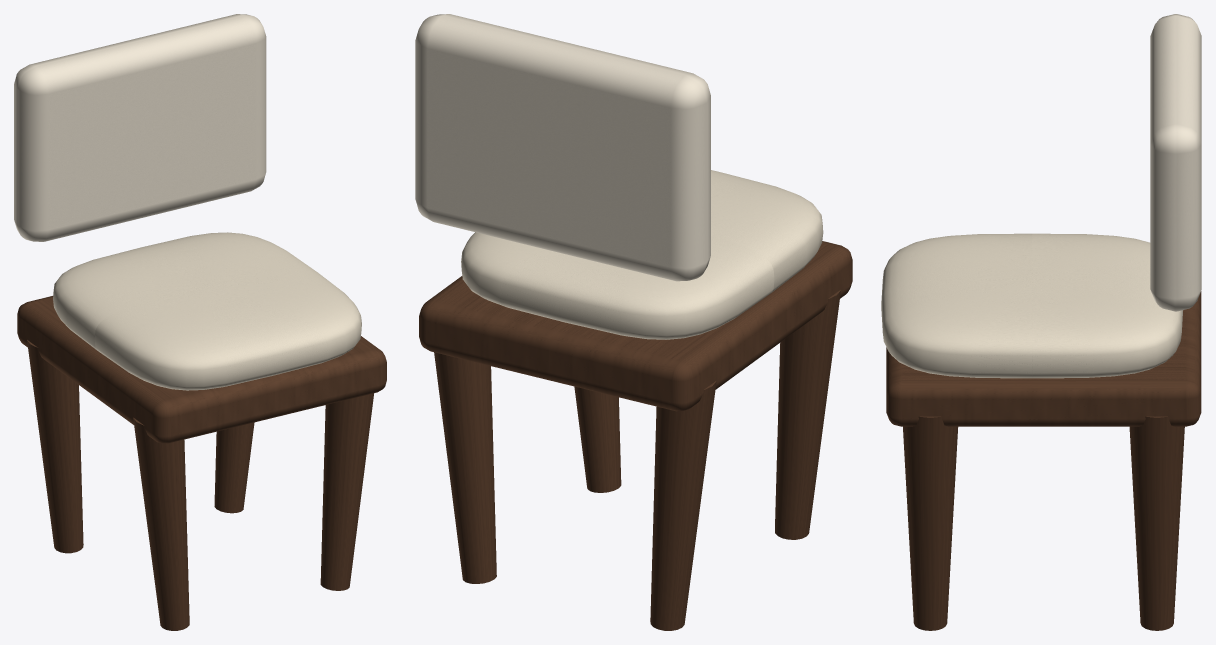
File: dining-chair.glb
3 renders of one model, left to right at view 1: azimuth 30°, elevation 25°; view 2: azimuth 150°, elevation 25°; view 3: azimuth 270°, elevation 25°, orthographic. The views are drawn at different scales.
Visible parts, largest first — view 1: 奶油圈圈绒, 浅胡桃木 (×5), 软包织物 / 鼓包枕芯; view 2: 奶油圈圈绒, 浅胡桃木 (×5), 软包织物 / 鼓包枕芯; view 3: 软包织物 / 鼓包枕芯, 浅胡桃木 (×3), 奶油圈圈绒.
Boxes of the visible parts, left/top/right/bottom form: 奶油圈圈绒: left=14, top=14, right=266, bottom=241; 浅胡桃木 (×5): left=17, top=296, right=386, bottom=630; 软包织物 / 鼓包枕芯: left=53, top=232, right=361, bottom=390; 奶油圈圈绒: left=415, top=14, right=710, bottom=281; 浅胡桃木 (×5): left=419, top=241, right=852, bottom=630; 软包织物 / 鼓包枕芯: left=461, top=170, right=823, bottom=339; 软包织物 / 鼓包枕芯: left=881, top=233, right=1183, bottom=378; 浅胡桃木 (×3): left=886, top=291, right=1201, bottom=630; 奶油圈圈绒: left=1150, top=14, right=1201, bottom=311.
Size of the model in its own units: 0.48 by 0.9 by 0.51.
3 materials, 3 textured.
